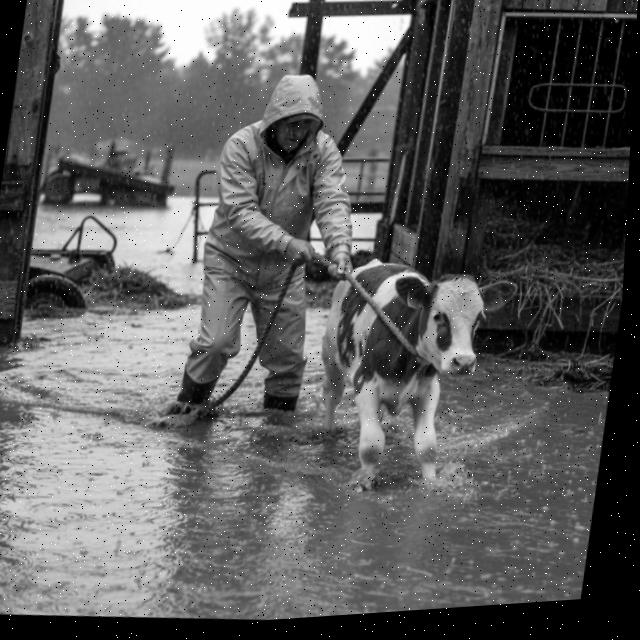civilian: (150, 48, 387, 445)
cow: (290, 224, 524, 515)
